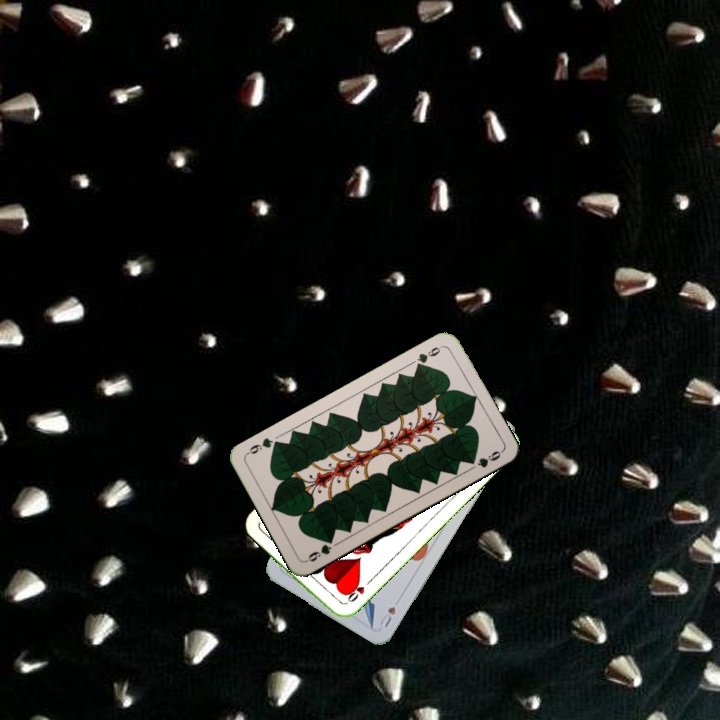G9: (302, 534, 336, 565), (412, 341, 445, 371)
HO: (339, 576, 373, 608)
HU: (376, 602, 398, 630)
